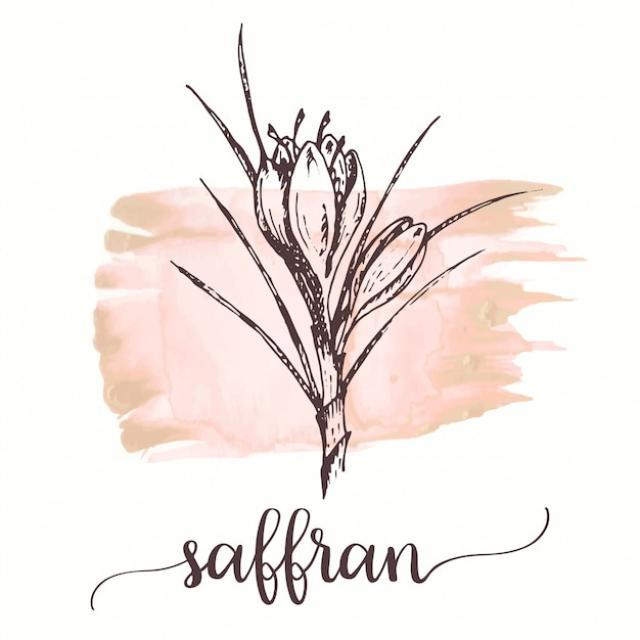Flower: (243, 117, 430, 329)
